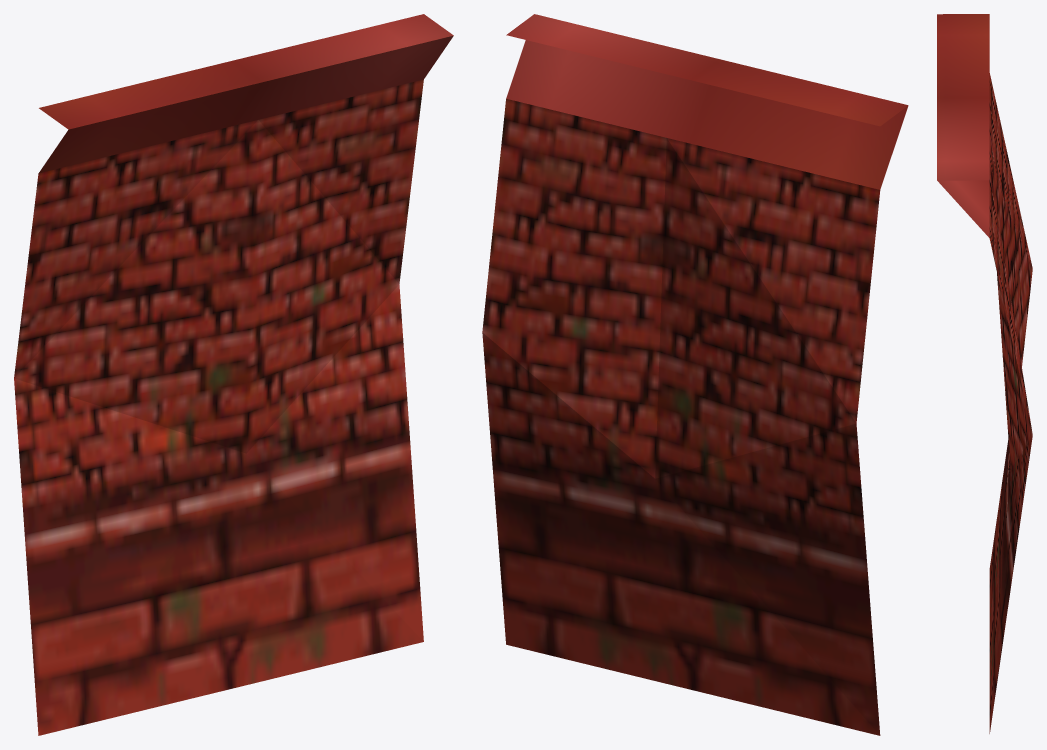
File: W_A3_x [Ziegel]_1133.glb
3 views of the same model, side by side, from view 1: azimuth 30°, elevation 25°; view 2: azimuth 150°, elevation 25°; view 3: azimuth 270°, elevation 25° (orthographic). The views are drawn at different scales.
Visible parts, largest first — view 1: polySurfaceShape1213, polySurfaceShape1215; view 2: polySurfaceShape1213, polySurfaceShape1215; view 3: polySurfaceShape1213, polySurfaceShape1215.
Part boxes in pixels (box(x1,y1,x2,y2)): polySurfaceShape1213: box(14, 79, 423, 735); polySurfaceShape1215: box(38, 14, 453, 173); polySurfaceShape1213: box(482, 98, 880, 735); polySurfaceShape1215: box(506, 14, 908, 189); polySurfaceShape1213: box(989, 73, 1032, 733); polySurfaceShape1215: box(937, 14, 989, 237).
Bounding box in the file's own units: 0.2503 × 0.3891 × 0.0607.
Materials: 2 (2 with a texture image).
